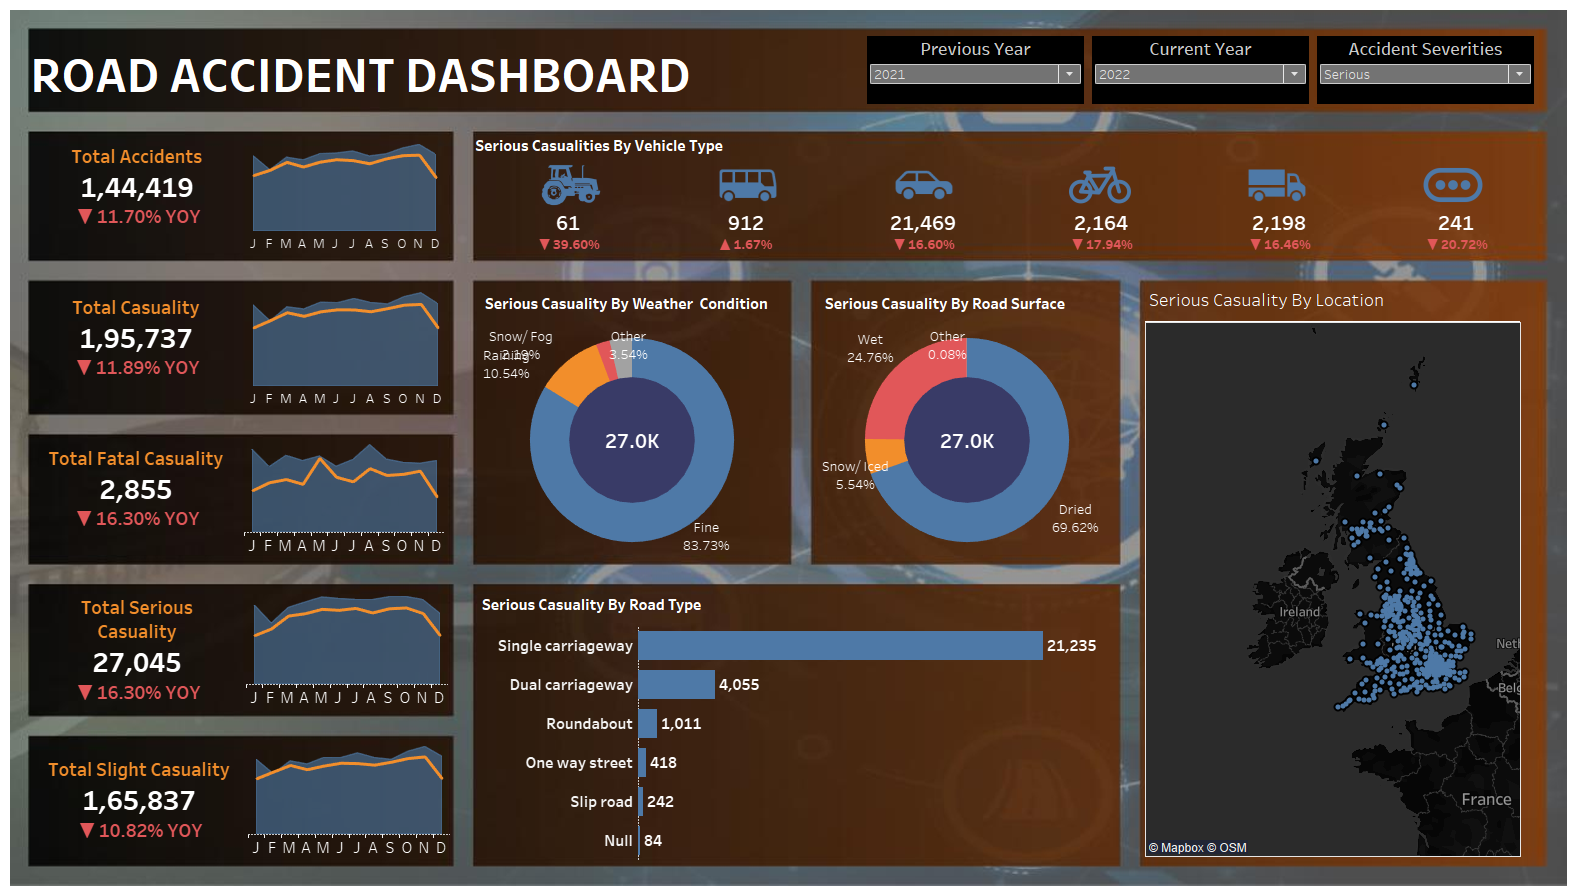

The page's visual inventory and layout, read from the dashboard file:
{"tool":"tableau","page":{"name":"Dashboard 1","canvas":[1600,900],"ordinal":0},"visuals":[{"type":"image","param":"C:/Users/shalu/Downloads/Background.pptx.jpg","box":[8,8,1584,884]},{"type":"parameter","param":"[Parameters].[Current Year (copy)_873416853334425601]","box":[874,34,225,76]},{"type":"parameter","param":"[Parameters].[Parameter 1]","box":[1099,34,225,76]},{"type":"parameter","param":"[Parameters].[Parameter 2]","box":[1324,34,225,76]},{"type":"text","box":[38,36,736,77]},{"type":"text","box":[483,132,417,30]},{"type":"worksheet","title":"Total Accidents","mark":"Automatic","box":[43,138,209,122]},{"type":"worksheet","title":"Total Accidents Sparkline","mark":"Automatic","rows":["CY Accidents (copy)_873416853339848707","Calculation_873416853335162882"],"cols":["Accident Date"],"box":[252,138,208,122]},{"type":"worksheet","title":"Vehicle Type Image","mark":"Shape","box":[490,160,1066,50]},{"type":"worksheet","title":"Vehicle Type KPI","mark":"Automatic","box":[490,210,1066,46]},{"type":"worksheet","title":"Location","mark":"Automatic","rows":["Latitude"],"cols":["Longitude"],"box":[1156,285,376,574]},{"type":"worksheet","title":"Total Casualities","mark":"Automatic","box":[42,286,210,128]},{"type":"worksheet","title":"Total Casualities Sparkline","mark":"Automatic","rows":["Calculation_873416853351641095","CY Accidents (copy)_873416853350797318"],"cols":["Accident Date"],"box":[252,286,209,128]},{"type":"worksheet","title":"Weather Condition Pie","mark":"Pie","rows":["Calculation_873416853657968660","Calculation_873416853657993238"],"box":[488,287,310,274]},{"type":"worksheet","title":"Road Condition Pie","mark":"Pie","rows":["Calculation_873416853657968660","Calculation_873416853657993238"],"box":[828,287,300,274]},{"type":"worksheet","title":"Fatal Casuality","mark":"Automatic","box":[42,438,209,125]},{"type":"worksheet","title":"Fatal Casuality Sparkline","mark":"Automatic","rows":["Calculation_873416853393170442","Calculation_873416853392465929"],"cols":["Accident Date"],"box":[251,438,209,125]},{"type":"worksheet","title":"Serious Casualities","mark":"Automatic","box":[43,590,210,125]},{"type":"worksheet","title":"Serious Casuality Sparkline","mark":"Automatic","rows":["PY Fatal Casuality (copy)_873416853395378190","CY Fatal Casuality (copy)_873416853395152909"],"cols":["Accident Date"],"box":[253,590,210,125]},{"type":"worksheet","title":"Road Type","mark":"Automatic","rows":["Road_Type"],"cols":["CY Accidents (copy)_873416853350797318"],"box":[489,592,643,270]},{"type":"worksheet","title":"Slight Casualities","mark":"Automatic","box":[44,740,211,125]},{"type":"worksheet","title":"Slight Casuality Sparkline","mark":"Automatic","rows":["PY Serious Casuality (copy)_873416853396889616","CY Serious Casuality (copy)_873416853396733967"],"cols":["Accident Date"],"box":[255,740,210,125]}]}

Visuals, with their boxes in screenshot pixels (x1, y1, x2, y2), scaled from the page's 1600x900 canvas onto the 1575x895 screenshot:
image: region(8, 8, 1567, 887)
parameter: region(860, 34, 1082, 109)
parameter: region(1082, 34, 1303, 109)
parameter: region(1303, 34, 1525, 109)
text: region(37, 36, 762, 112)
text: region(475, 131, 886, 161)
"Total Accidents" worksheet: region(42, 137, 248, 259)
"Total Accidents Sparkline" worksheet: region(248, 137, 453, 259)
"Vehicle Type Image" worksheet (Shape marks): region(482, 159, 1532, 209)
"Vehicle Type KPI" worksheet: region(482, 209, 1532, 255)
"Location" worksheet: region(1138, 283, 1508, 854)
"Total Casualities" worksheet: region(41, 284, 248, 412)
"Total Casualities Sparkline" worksheet: region(248, 284, 454, 412)
"Weather Condition Pie" worksheet (Pie marks): region(480, 285, 786, 558)
"Road Condition Pie" worksheet (Pie marks): region(815, 285, 1110, 558)
"Fatal Casuality" worksheet: region(41, 436, 247, 560)
"Fatal Casuality Sparkline" worksheet: region(247, 436, 453, 560)
"Serious Casualities" worksheet: region(42, 587, 249, 711)
"Serious Casuality Sparkline" worksheet: region(249, 587, 456, 711)
"Road Type" worksheet: region(481, 589, 1114, 857)
"Slight Casualities" worksheet: region(43, 736, 251, 860)
"Slight Casuality Sparkline" worksheet: region(251, 736, 458, 860)
